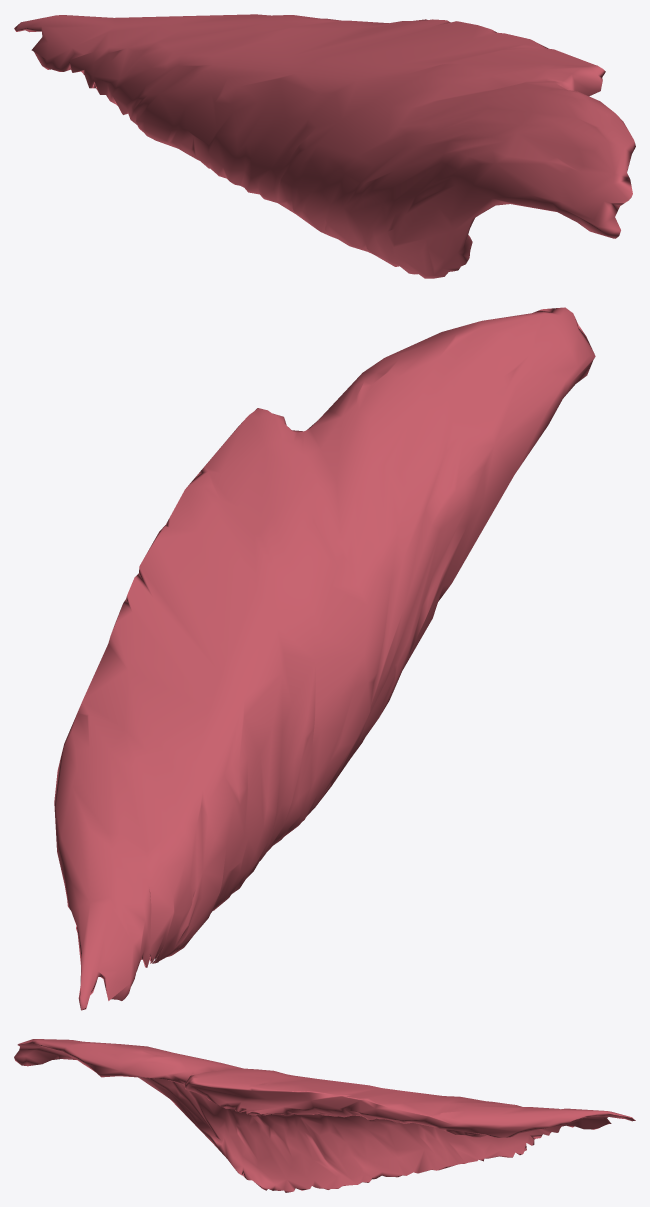
3 renders of one model, top to bottom at view 1: azimuth 30°, elevation 25°; view 2: azimuth 150°, elevation 25°; view 3: azimuth 270°, elevation 25°, orthographic. The views are drawn at different scales.
Parts seen in each view (by area): view 1: 右侧旋后肌; view 2: 右侧旋后肌; view 3: 右侧旋后肌.
Boxes of the visible parts, x1,y1,x2,y2 form: 右侧旋后肌: (14, 14, 635, 278); 右侧旋后肌: (54, 307, 595, 1010); 右侧旋后肌: (14, 1039, 635, 1192).
Bounding box in the file's own units: 0.0485 × 0.0525 × 0.1885.
